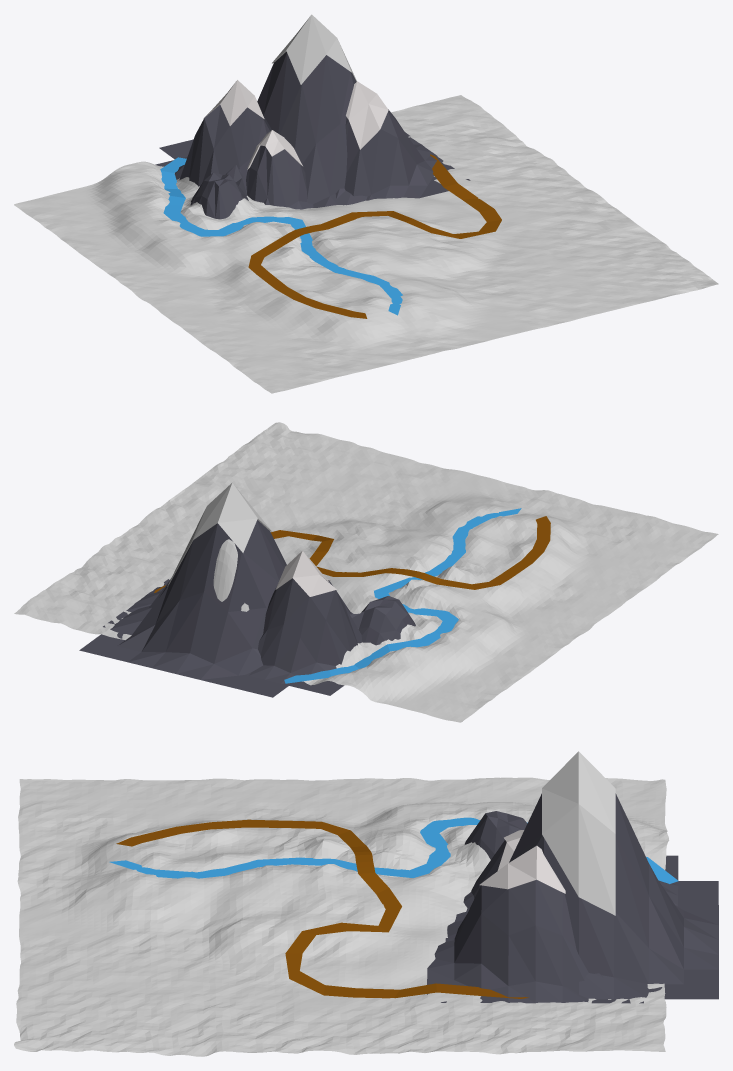
Rendered from Level_2_v1.00.fbx.
3 views of the same model, one above another, from view 1: azimuth 30°, elevation 25°; view 2: azimuth 150°, elevation 25°; view 3: azimuth 270°, elevation 25° (orthographic). The views are drawn at different scales.
Parts seen in each view (by area): view 1: Plane, Plane.002, Plane.004, Plane.001, Plane.003, Plane.005, Plane.006; view 2: Plane, Plane.002, Plane.003, Plane.001, Plane.006, Plane.004; view 3: Plane, Plane.002, Plane.004, Plane.001, Plane.006, Plane.005, Plane.003.
Part boxes in pixels (x1,y1,x2,y2): Plane: (14, 95, 718, 393); Plane.002: (159, 14, 367, 207); Plane.004: (335, 81, 470, 200); Plane.001: (160, 154, 501, 318); Plane.003: (155, 80, 269, 186); Plane.005: (246, 130, 313, 209); Plane.006: (190, 165, 248, 219); Plane: (14, 422, 718, 722); Plane.002: (79, 482, 292, 697); Plane.003: (245, 550, 362, 695); Plane.001: (154, 508, 550, 683); Plane.006: (350, 596, 415, 645); Plane.004: (103, 579, 170, 627); Plane: (14, 777, 669, 1056); Plane.002: (447, 751, 718, 999); Plane.004: (427, 845, 643, 1003); Plane.001: (109, 817, 678, 998); Plane.006: (464, 811, 527, 859); Plane.005: (463, 830, 524, 911); Plane.003: (659, 855, 678, 906).
Size of the model in its own units: 4539 by 1476 by 4915.
